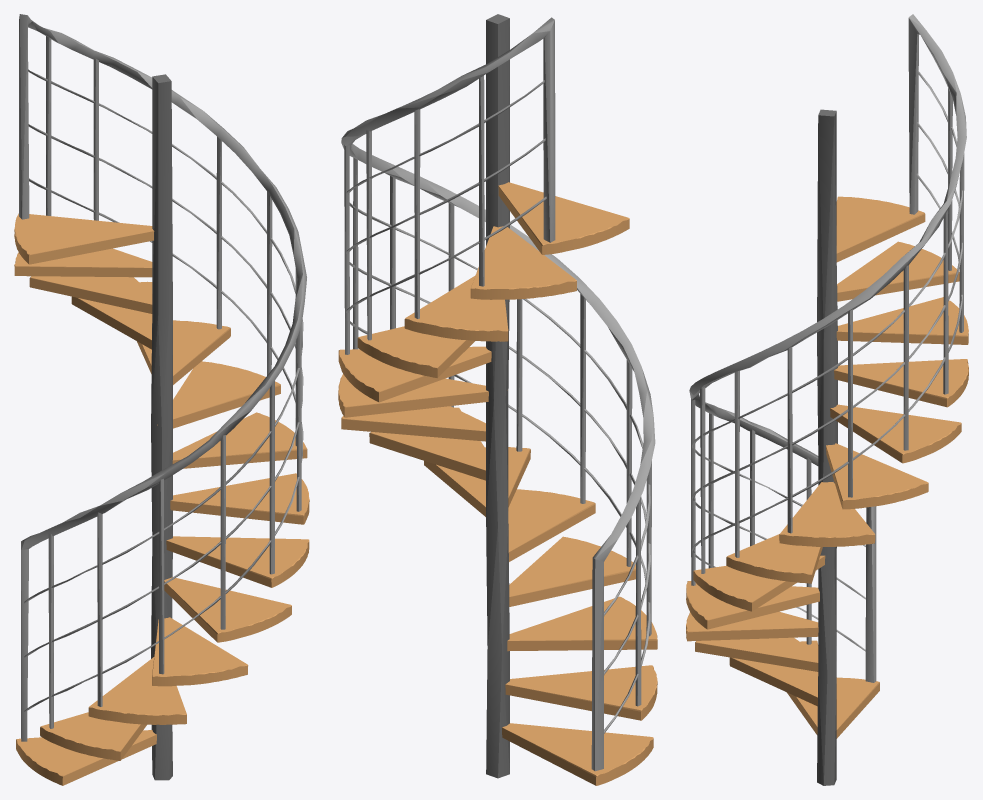
The model's file is spiral.glb.
3 views of the same model, side by side, from view 1: azimuth 30°, elevation 25°; view 2: azimuth 150°, elevation 25°; view 3: azimuth 270°, elevation 25° (orthographic). The views are drawn at different scales.
Visible parts, largest first — view 1: Pole, Spiral66Railing11, Spiral, Spiral66Step56, Spiral66Step47, Spiral66Step48, Spiral66Step46, Spiral66Step49, Spiral66Step51, Spiral66Step45, Spiral66Step50, Spiral66Step44 (+8 smaller); view 2: Pole, Spiral66Railing11, Spiral, Spiral66Step43, Spiral66Step55, Spiral66Step44, Spiral66Step56, Spiral66Step46, Spiral66Step45, Spiral66Step54, Spiral66Step47, Spiral66Step52 (+8 smaller); view 3: Pole, Spiral, Spiral66Railing11, Spiral66Step52, Spiral66Step53, Spiral66Step50, Spiral66Step51, Spiral66Step56, Spiral66Step54, Spiral66Step55, Spiral66Step49, Spiral66Step47 (+8 smaller).
Boxes of the visible parts, x1,y1,x2,y2 form: Pole: (151, 74, 172, 780); Spiral66Railing11: (19, 14, 306, 741); Spiral: (46, 36, 301, 728); Spiral66Step56: (14, 213, 154, 264); Spiral66Step47: (164, 577, 291, 642); Spiral66Step48: (166, 536, 309, 587); Spiral66Step46: (152, 617, 248, 686); Spiral66Step49: (170, 473, 309, 524); Spiral66Step51: (157, 361, 280, 428); Spiral66Step45: (88, 657, 186, 724); Spiral66Step50: (172, 412, 307, 468); Spiral66Step44: (40, 712, 146, 760); Pole: (486, 14, 509, 778); Spiral66Railing11: (341, 17, 655, 771); Spiral: (344, 75, 651, 706); Spiral66Step43: (502, 723, 653, 785); Spiral66Step55: (470, 226, 576, 299); Spiral66Step44: (505, 665, 657, 720); Spiral66Step56: (498, 182, 629, 254); Spiral66Step46: (509, 536, 635, 606); Spiral66Step45: (507, 596, 657, 651); Spiral66Step54: (404, 275, 508, 341); Spiral66Step47: (508, 489, 595, 561); Spiral66Step52: (338, 346, 491, 402); Pole: (817, 109, 837, 785); Spiral: (691, 88, 964, 644); Spiral66Railing11: (689, 14, 966, 682); Spiral66Step52: (830, 404, 961, 463); Spiral66Step53: (834, 359, 968, 407); Spiral66Step50: (779, 482, 875, 546); Spiral66Step51: (826, 443, 928, 509); Spiral66Step56: (836, 196, 925, 262); Spiral66Step54: (836, 297, 968, 344); Spiral66Step55: (837, 241, 959, 301); Spiral66Step49: (726, 534, 822, 583); Spiral66Step47: (686, 581, 819, 629).
Size of the model in its own units: 0.8576 by 2.42 by 0.8575.
